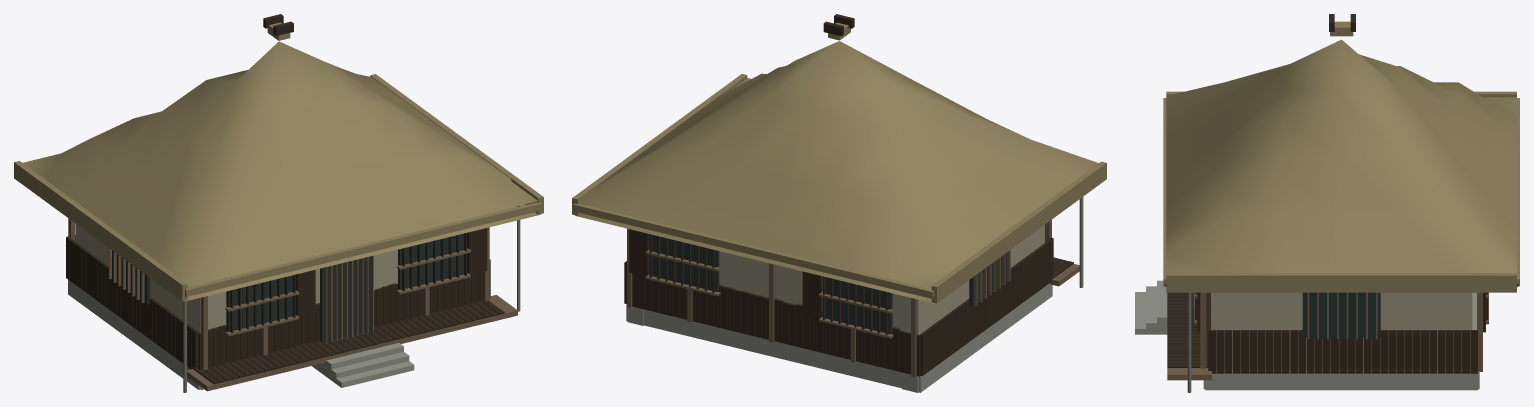
The model's file is thatch-house-low.glb.
The picture shows the model from 3 angles, left to right: view 1: azimuth 30°, elevation 25°; view 2: azimuth 150°, elevation 25°; view 3: azimuth 270°, elevation 25°; orthographic projection. The views are drawn at different scales.
Visible parts, largest first — view 1: thatch, darkwood, wood, glass, stone, plaster, metal; view 2: thatch, darkwood, stone, plaster, wood, glass; view 3: thatch, darkwood, plaster, stone, glass, wood, metal.
Boxes of the visible parts, x1=… form: thatch: x1=14, y1=22, x2=543, y2=301; darkwood: x1=66, y1=14, x2=504, y2=384; wood: x1=68, y1=218, x2=517, y2=391; glass: x1=112, y1=233, x2=463, y2=342; stone: x1=68, y1=279, x2=414, y2=389; plaster: x1=75, y1=224, x2=397, y2=365; metal: x1=183, y1=205, x2=520, y2=392; thatch: x1=572, y1=22, x2=1106, y2=303; darkwood: x1=624, y1=14, x2=1073, y2=376; stone: x1=626, y1=283, x2=1052, y2=392; plaster: x1=719, y1=225, x2=1044, y2=334; wood: x1=627, y1=219, x2=1079, y2=377; glass: x1=652, y1=235, x2=1006, y2=334; thatch: x1=1163, y1=21, x2=1519, y2=292; darkwood: x1=1164, y1=14, x2=1518, y2=373; plaster: x1=1211, y1=292, x2=1472, y2=370; stone: x1=1135, y1=280, x2=1479, y2=390; glass: x1=1302, y1=292, x2=1380, y2=337; wood: x1=1167, y1=292, x2=1488, y2=380; metal: x1=1187, y1=292, x2=1191, y2=392.
Bounding box in the file's own units: 11.17 × 8.43 × 9.88.
